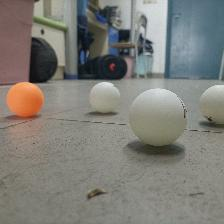WhiteBall: (127, 88, 188, 147), (88, 82, 120, 113), (199, 84, 224, 122)
YellowBall: (5, 82, 44, 117)
